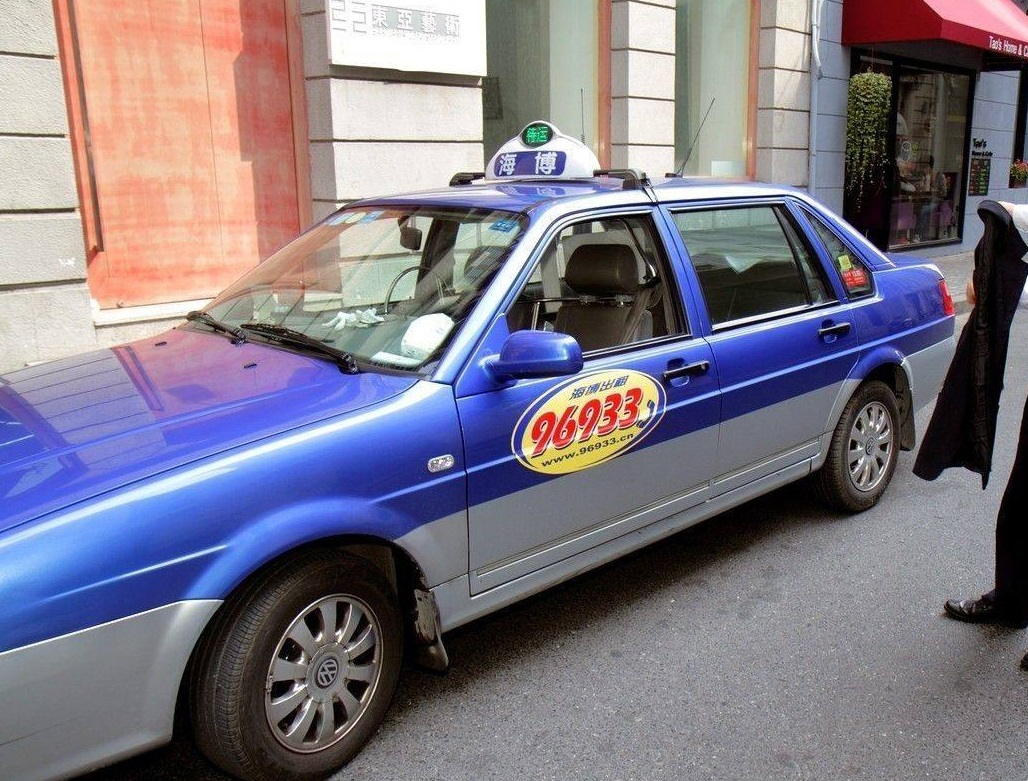taxi: (3, 115, 965, 781)
